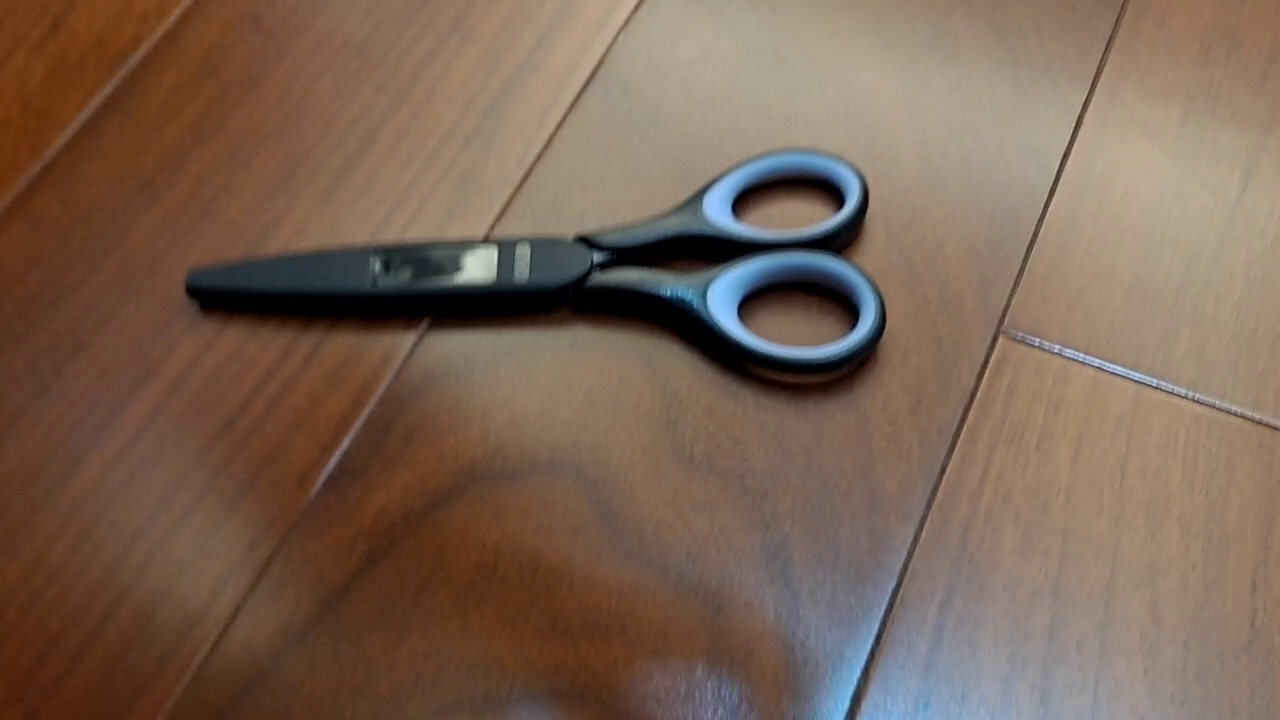scissors: (182, 145, 888, 383)
